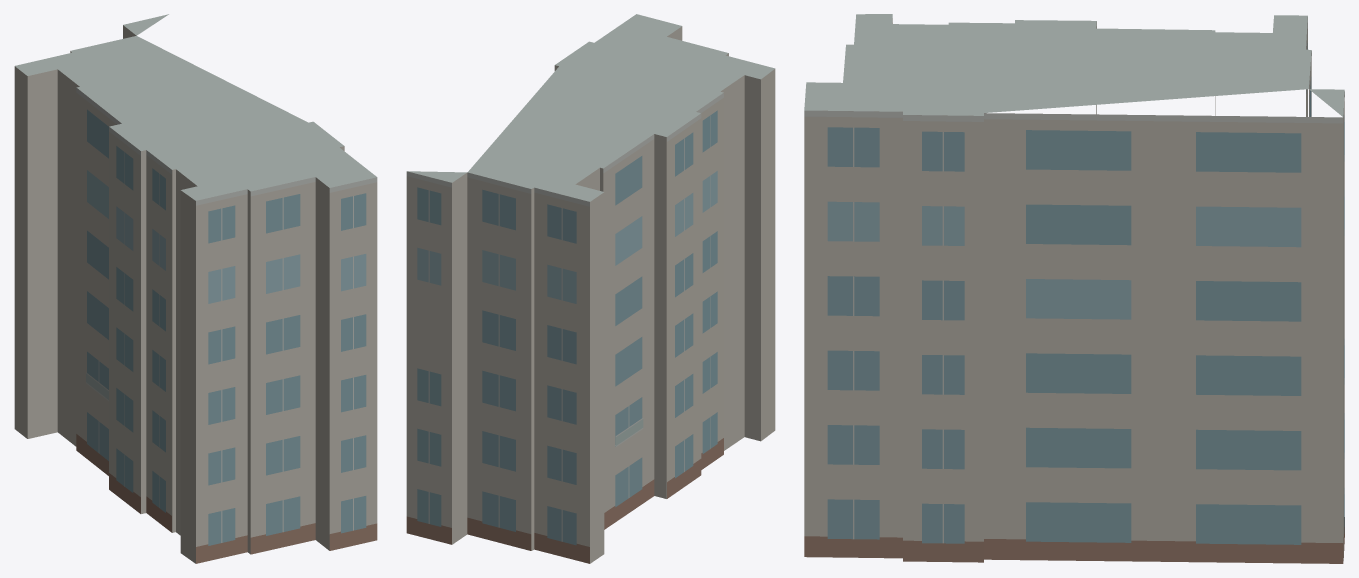
The model's file is survey-upis-32724217.glb.
3 views of the same model, side by side, from view 1: azimuth 30°, elevation 25°; view 2: azimuth 150°, elevation 25°; view 3: azimuth 270°, elevation 25° (orthographic). The views are drawn at different scales.
Visible parts, largest first — view 1: survey-upis-32724217.tmp; view 2: survey-upis-32724217.tmp; view 3: survey-upis-32724217.tmp.
Part boxes in pixels (left/top/right/bottom): survey-upis-32724217.tmp: left=14, top=14, right=377, bottom=563; survey-upis-32724217.tmp: left=406, top=14, right=775, bottom=563; survey-upis-32724217.tmp: left=804, top=14, right=1344, bottom=563.
Bounding box in the file's own units: 8.94 × 18 × 19.76.
